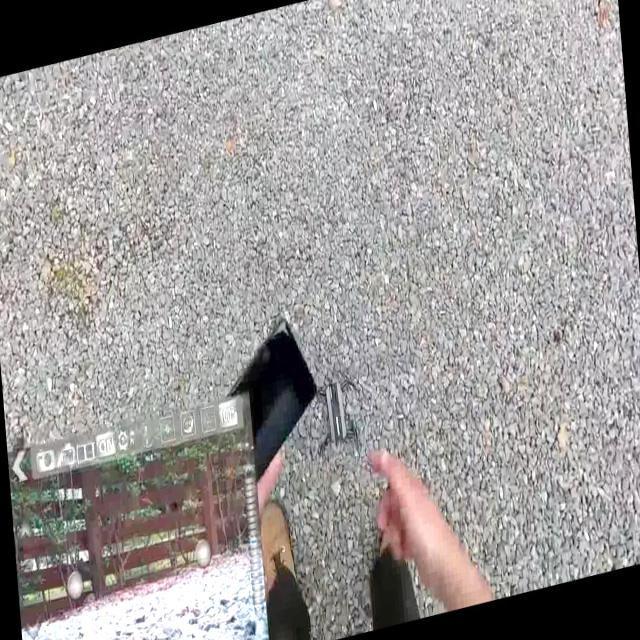drone: (318, 361, 363, 469)
